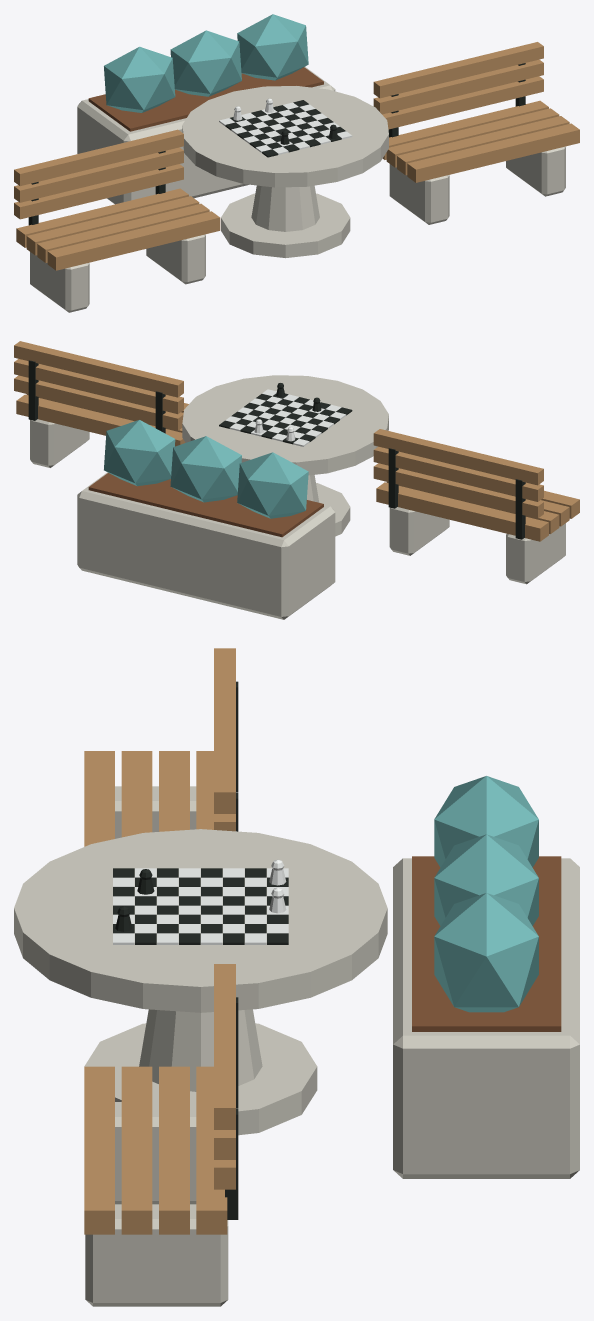
File: gh_roof_furniture_v01.glb
The picture shows the model from 3 angles, top to bottom: view 1: azimuth 30°, elevation 25°; view 2: azimuth 150°, elevation 25°; view 3: azimuth 270°, elevation 25°; orthographic projection. The views are drawn at different scales.
Parts seen in each view (by area): view 1: Concrete chess table oak benches and roof planter; view 2: Concrete chess table oak benches and roof planter; view 3: Concrete chess table oak benches and roof planter.
Part boxes in pixels (box(x1,y1,x2,y2)): Concrete chess table oak benches and roof planter: box(14, 14, 579, 312); Concrete chess table oak benches and roof planter: box(14, 341, 579, 619); Concrete chess table oak benches and roof planter: box(14, 648, 579, 1306).
Size of the model in its own units: 4.95 by 1.29 by 2.57.
1 material, 1 textured.
